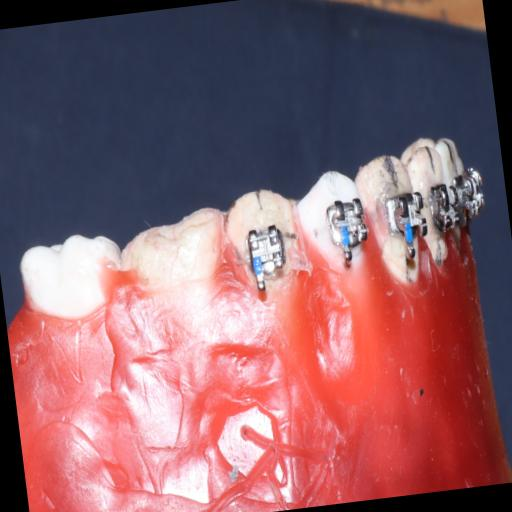incorrect_brace: (242, 224, 289, 280)
